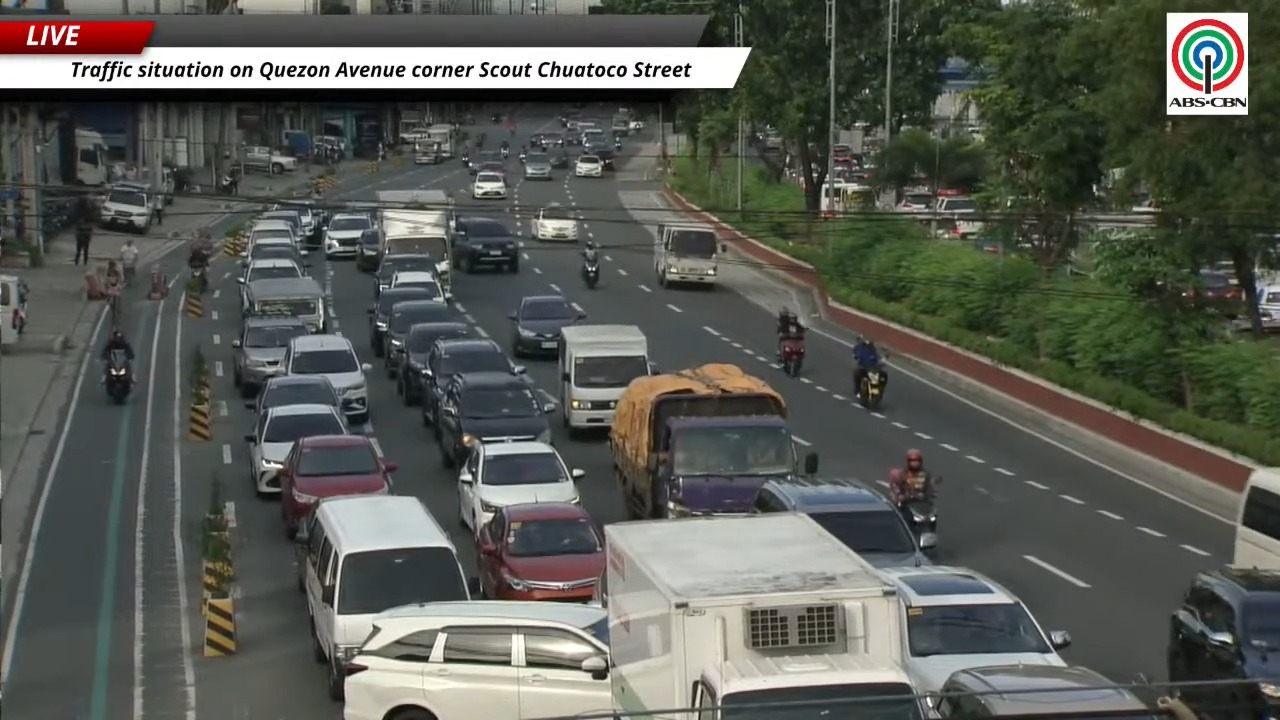bus: (1232, 468, 1279, 569)
car: (343, 601, 611, 719), (879, 566, 1070, 692), (1166, 567, 1279, 716), (753, 477, 935, 566), (476, 502, 603, 601), (277, 435, 397, 538), (927, 665, 1150, 719), (435, 369, 555, 466), (458, 440, 584, 532), (245, 404, 349, 494), (421, 338, 525, 426), (282, 334, 371, 425), (397, 321, 473, 405), (232, 316, 309, 397), (383, 299, 459, 378), (367, 287, 435, 356), (509, 295, 585, 356), (245, 375, 340, 416), (237, 257, 305, 312), (453, 217, 519, 272), (1183, 270, 1242, 314), (375, 253, 434, 296), (110, 168, 173, 208), (99, 189, 153, 233), (272, 200, 322, 244), (324, 213, 372, 258), (240, 238, 306, 266), (531, 203, 578, 241), (238, 258, 305, 284), (389, 270, 444, 301), (240, 147, 297, 175), (255, 209, 304, 241), (248, 219, 298, 246), (355, 228, 382, 271), (471, 171, 507, 198), (895, 191, 936, 213), (469, 151, 503, 175), (587, 142, 615, 169), (523, 153, 552, 179), (574, 154, 603, 177), (582, 127, 608, 150), (477, 161, 507, 179), (548, 147, 569, 169), (540, 132, 563, 151), (527, 133, 547, 152), (564, 128, 581, 145), (630, 119, 644, 131)
motorcycle: (899, 476, 941, 549), (104, 350, 132, 403), (855, 367, 885, 410), (905, 499, 936, 536), (780, 337, 804, 377), (190, 263, 208, 294), (582, 260, 599, 288), (461, 154, 470, 166), (500, 147, 509, 159), (614, 140, 622, 151), (519, 151, 526, 163)
truck: (602, 513, 921, 719), (609, 363, 799, 518), (376, 189, 455, 298), (654, 222, 720, 286), (74, 127, 110, 186), (397, 109, 429, 143), (425, 123, 455, 158)
